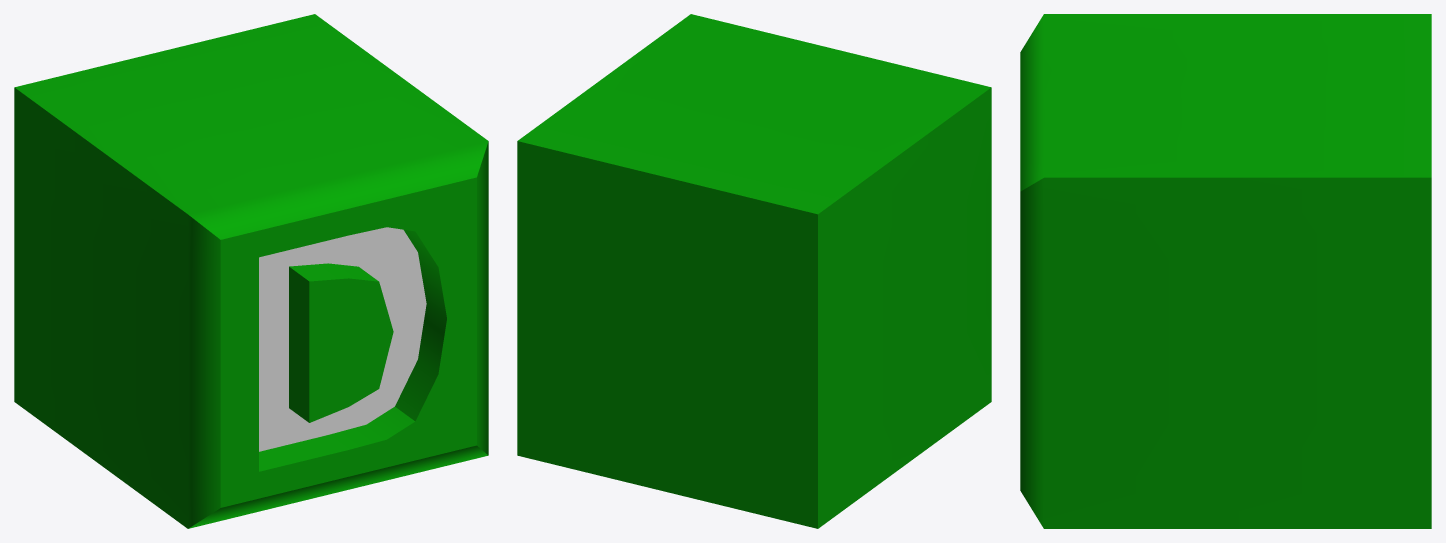
Rendered from D_block.fbx.
The picture shows the model from 3 angles, left to right: view 1: azimuth 30°, elevation 25°; view 2: azimuth 150°, elevation 25°; view 3: azimuth 270°, elevation 25°; orthographic projection. The views are drawn at different scales.
Parts seen in each view (by area): view 1: pasted__pasted__pCube2; view 2: pasted__pasted__pCube2; view 3: pasted__pasted__pCube2.
Boxes of the visible parts, x1,y1,x2,y2 form: pasted__pasted__pCube2: (14,14,488,528); pasted__pasted__pCube2: (517,14,991,528); pasted__pasted__pCube2: (1020,14,1431,528).
Bounding box in the file's own units: 1 × 1 × 1.06.
